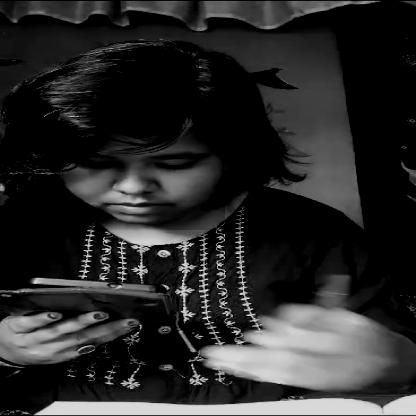Normal: (62, 127, 225, 230)
